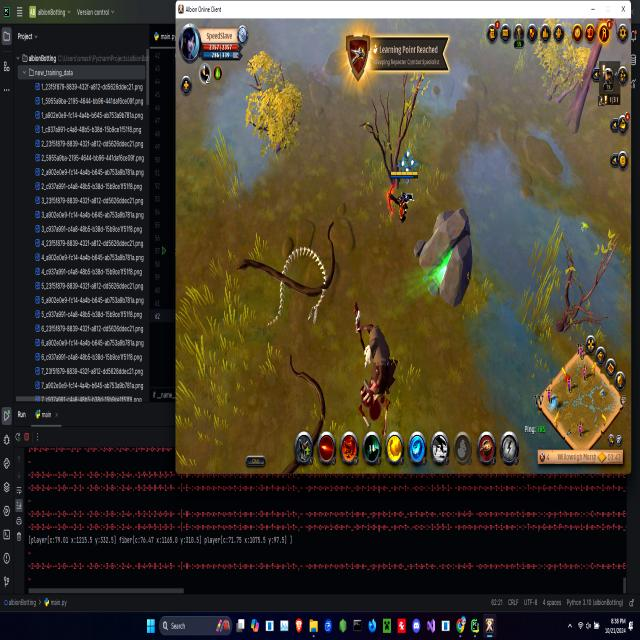hide: (398, 143, 420, 198)
ore: (232, 209, 341, 304), (277, 343, 331, 474), (349, 296, 396, 403)
red: (388, 166, 420, 230)
